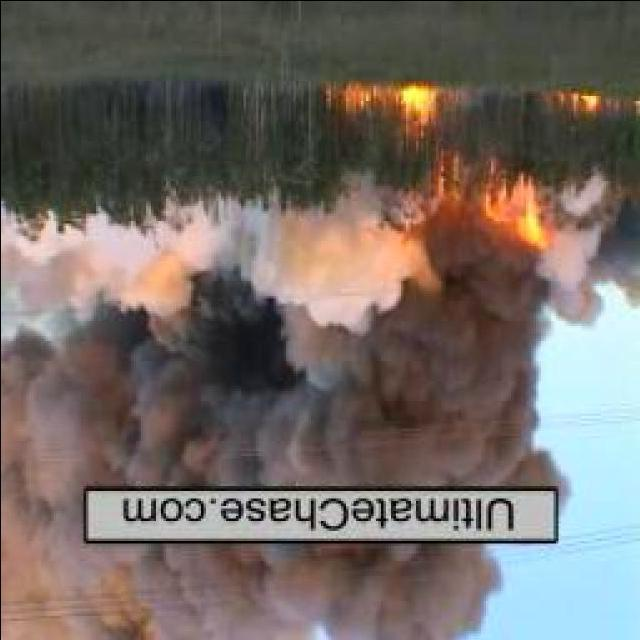Fire: (334, 80, 434, 144), (478, 176, 556, 250), (544, 94, 602, 122)
